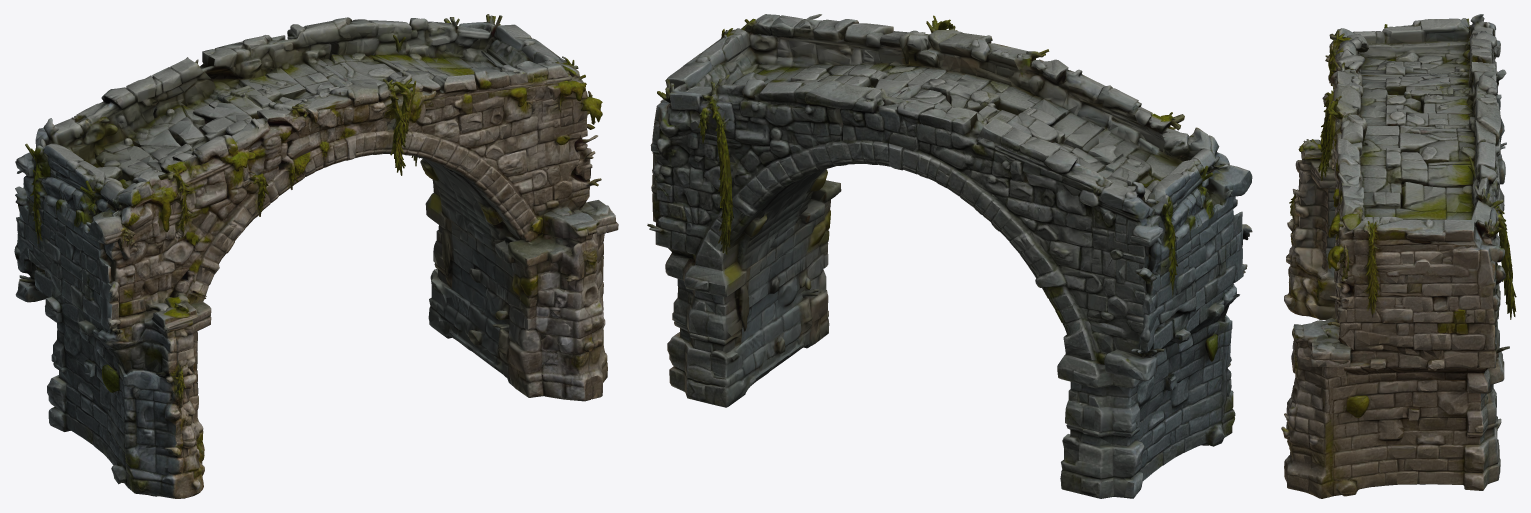
File: bridge-ruin.glb
The picture shows the model from 3 angles, left to right: view 1: azimuth 30°, elevation 25°; view 2: azimuth 150°, elevation 25°; view 3: azimuth 270°, elevation 25°; orthographic projection. The views are drawn at different scales.
Parts seen in each view (by area): view 1: tripo_node_c5c143b1; view 2: tripo_node_c5c143b1; view 3: tripo_node_c5c143b1.
Part boxes in pixels (box(x1,y1,x2,y2)): tripo_node_c5c143b1: box(14, 14, 618, 498); tripo_node_c5c143b1: box(647, 14, 1252, 498); tripo_node_c5c143b1: box(1281, 14, 1516, 498).
Bounding box in the file's own units: 0.9795 × 0.6364 × 0.4336.
Materials: 1 (1 with a texture image).
